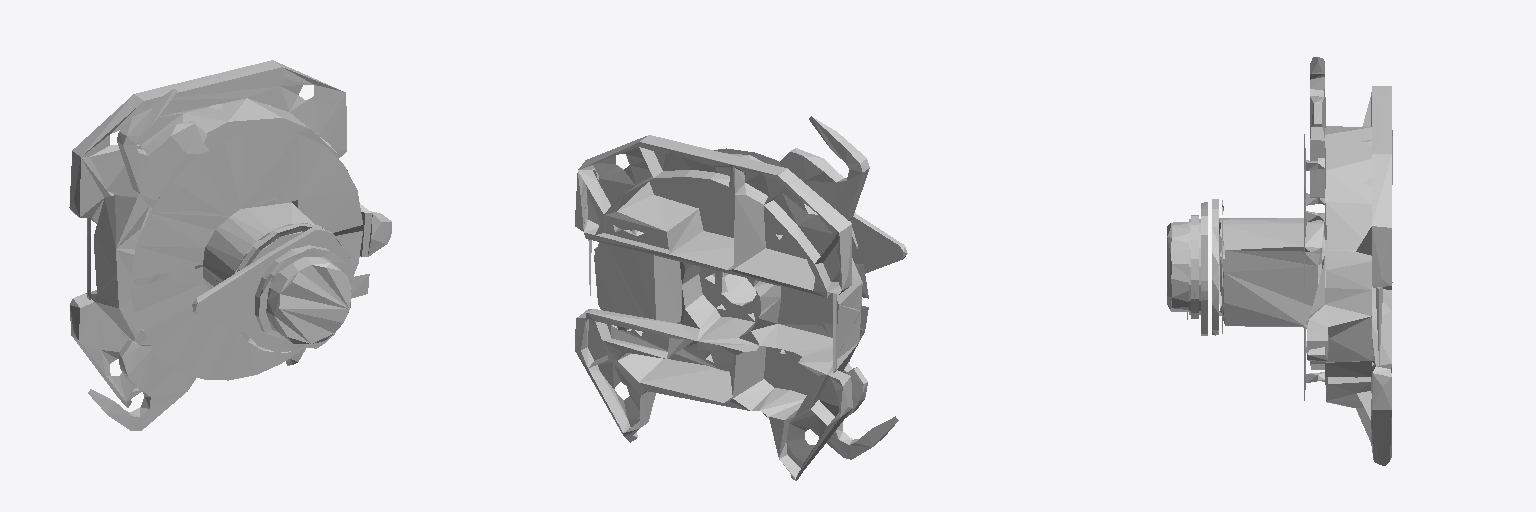
Rendered from Arm_LINK_5.obj.
The picture shows the model from 3 angles: view 1: azimuth 30°, elevation 25°; view 2: azimuth 150°, elevation 25°; view 3: azimuth 270°, elevation 25°; orthographic projection.
Parts seen in each view (by area): view 1: Arm_LINK_5.obj; view 2: Arm_LINK_5.obj; view 3: Arm_LINK_5.obj.
Part boxes in pixels (left/top/right/bottom): Arm_LINK_5.obj: left=69, top=60, right=391, bottom=430; Arm_LINK_5.obj: left=575, top=116, right=907, bottom=480; Arm_LINK_5.obj: left=1167, top=57, right=1392, bottom=465.
Bounding box in the file's own units: 0.2854 × 0.3082 × 0.1863.